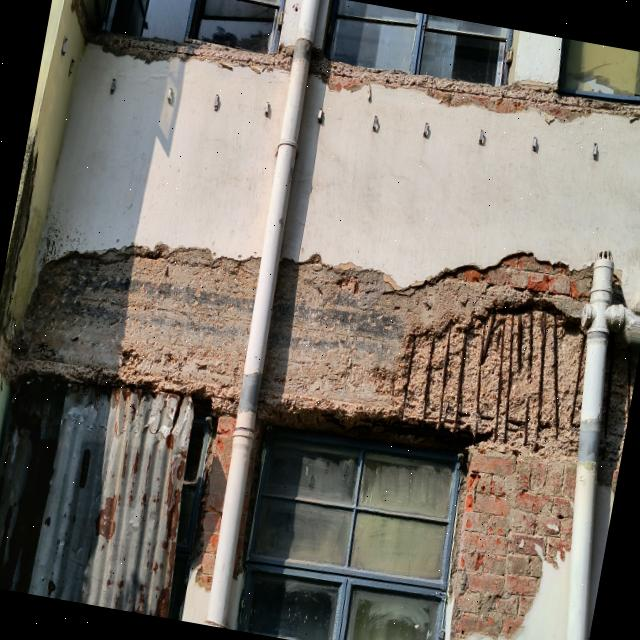Scaling: (9, 242, 270, 405), (271, 261, 503, 421), (309, 51, 640, 123), (0, 121, 54, 406), (82, 25, 291, 74)
Spalling: (373, 305, 589, 461)
exposed brickwork: (443, 448, 575, 640), (411, 253, 599, 315), (189, 413, 239, 590)
